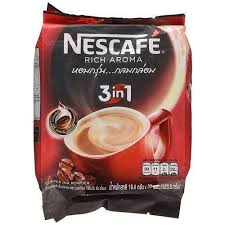nescafe-classic/gold-small: (32, 3, 194, 216)
